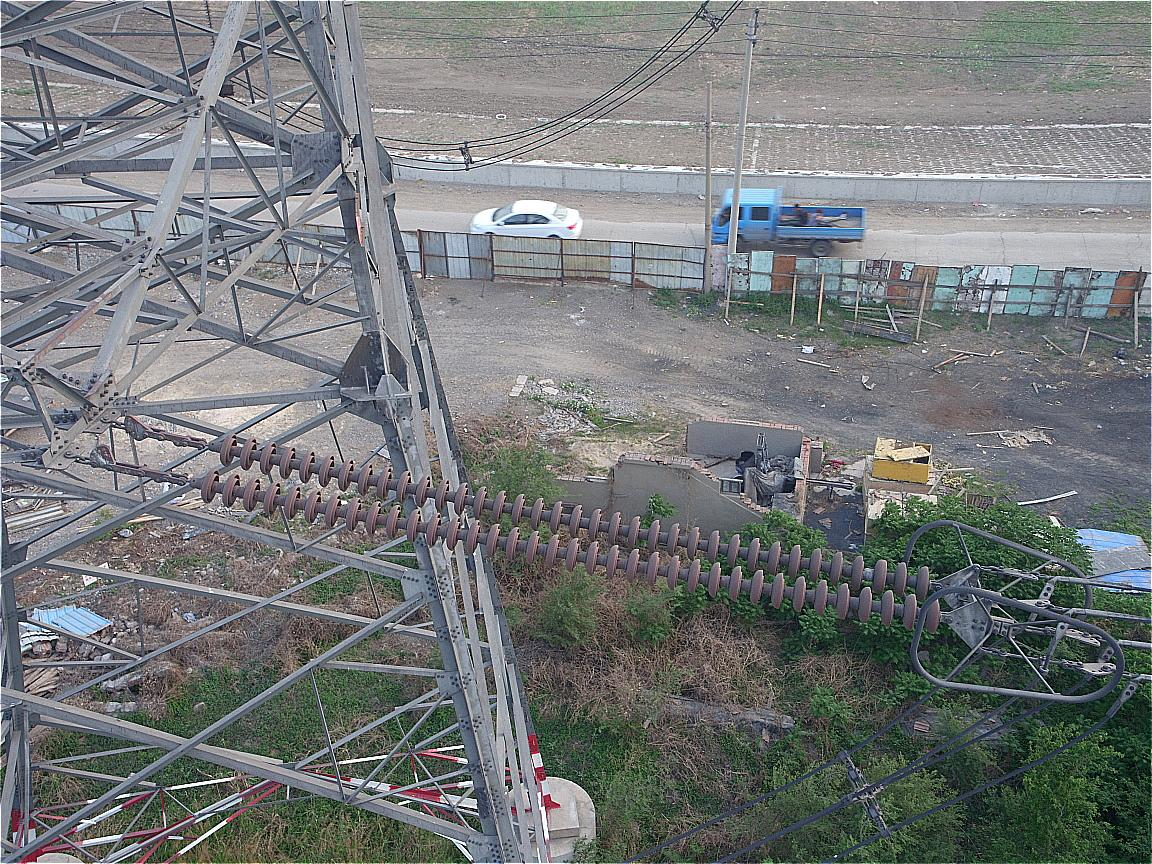insultor1: (202, 433, 942, 634)
